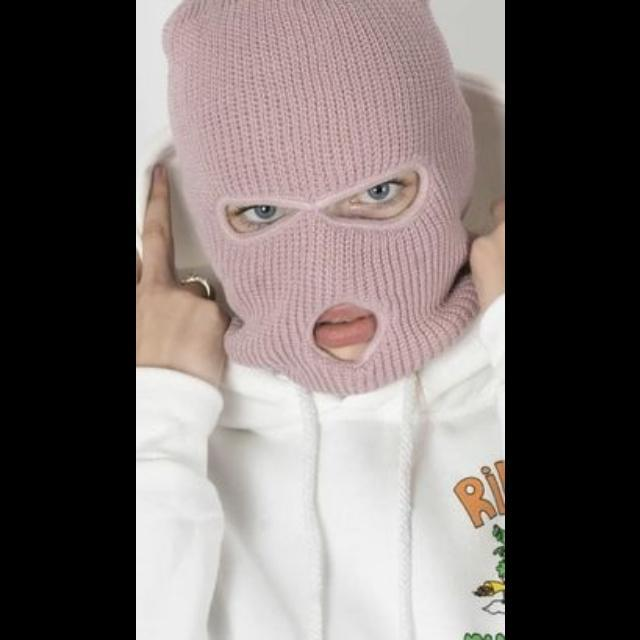criminal: (136, 0, 506, 640)
